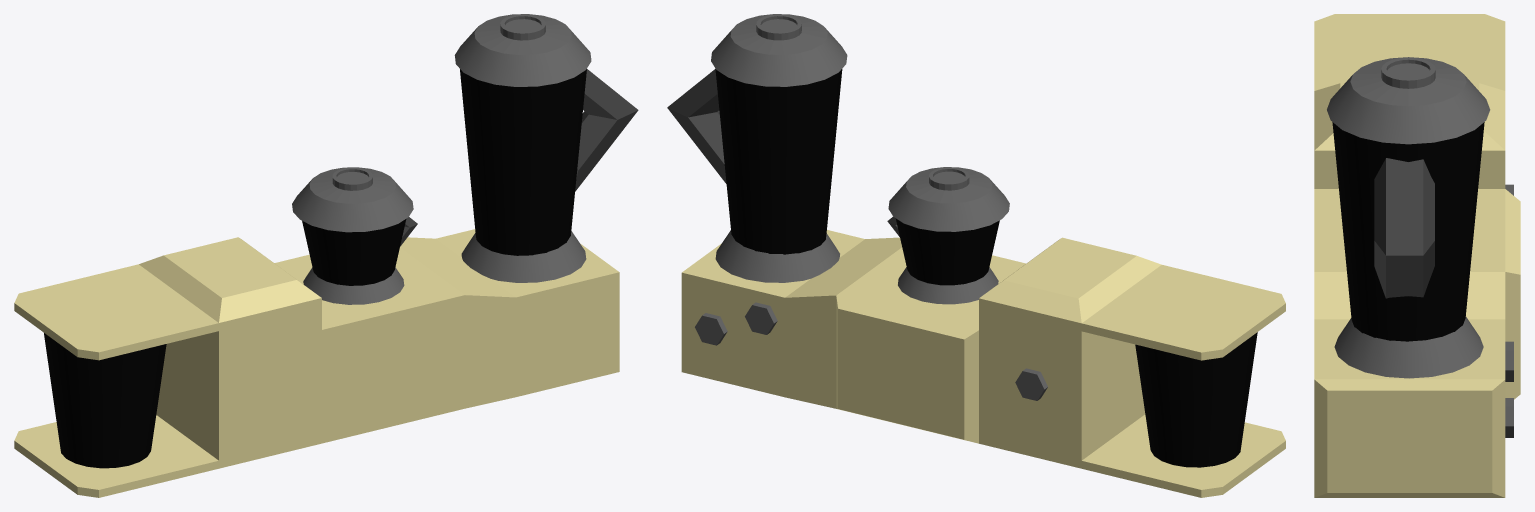
File: FIL_ZenGargen_Blender_01.fbx
The picture shows the model from 3 angles, left to right: view 1: azimuth 30°, elevation 25°; view 2: azimuth 150°, elevation 25°; view 3: azimuth 270°, elevation 25°; orthographic projection. The views are drawn at different scales.
Visible parts, largest first — view 1: pCube8; view 2: pCube8; view 3: pCube8.
Boxes of the visible parts, x1=… form: pCube8: x1=14, y1=14, x2=638, y2=497; pCube8: x1=667, y1=14, x2=1285, y2=497; pCube8: x1=1314, y1=14, x2=1520, y2=497.
Bounding box in the file's own units: 17.58 × 9.6 × 4.53.
